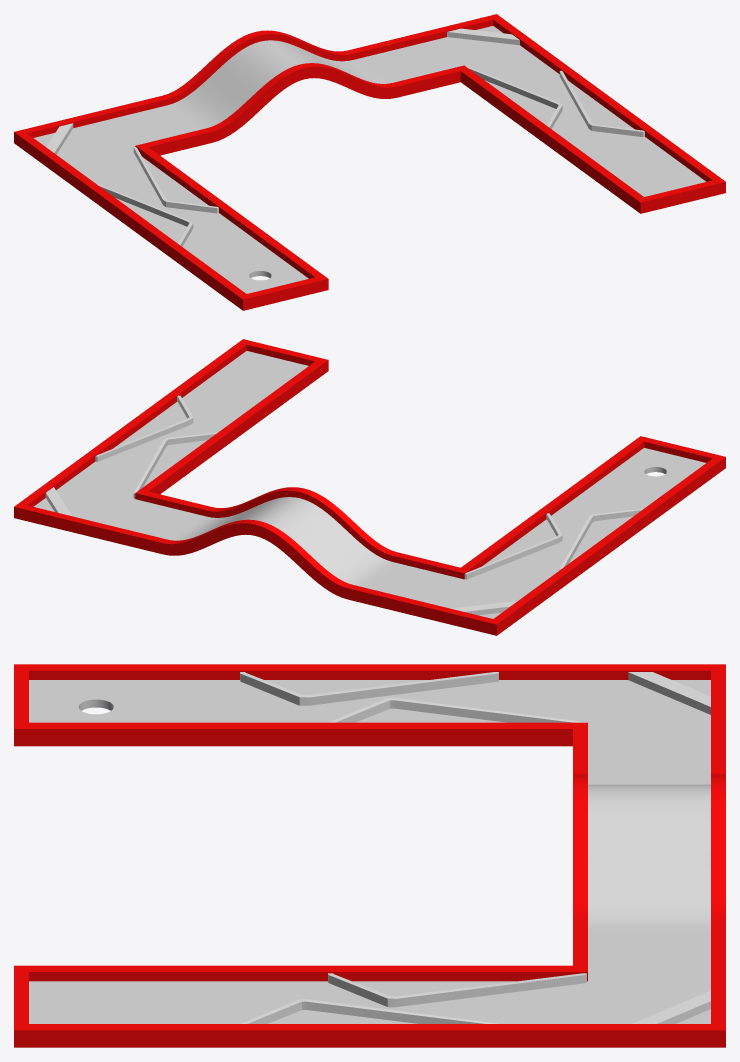
The model's file is BahnM13.fbx.
3 renders of one model, top to bottom at view 1: azimuth 30°, elevation 25°; view 2: azimuth 150°, elevation 25°; view 3: azimuth 270°, elevation 25°, orthographic. The views are drawn at different scales.
Parts seen in each view (by area): view 1: Track13; view 2: Track13; view 3: Track13.
Boxes of the visible parts, bbox=[...] form: Track13: bbox=[14, 14, 725, 310]; Track13: bbox=[14, 339, 725, 635]; Track13: bbox=[14, 664, 725, 1047].
Size of the model in its own units: 492 by 51 by 405.
